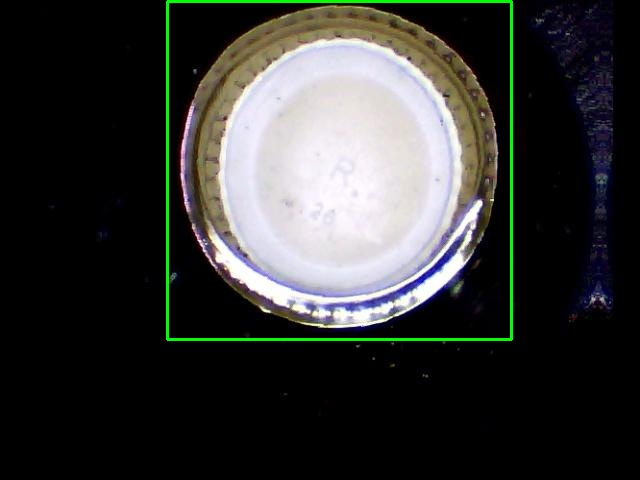capsule: (167, 1, 511, 339)
